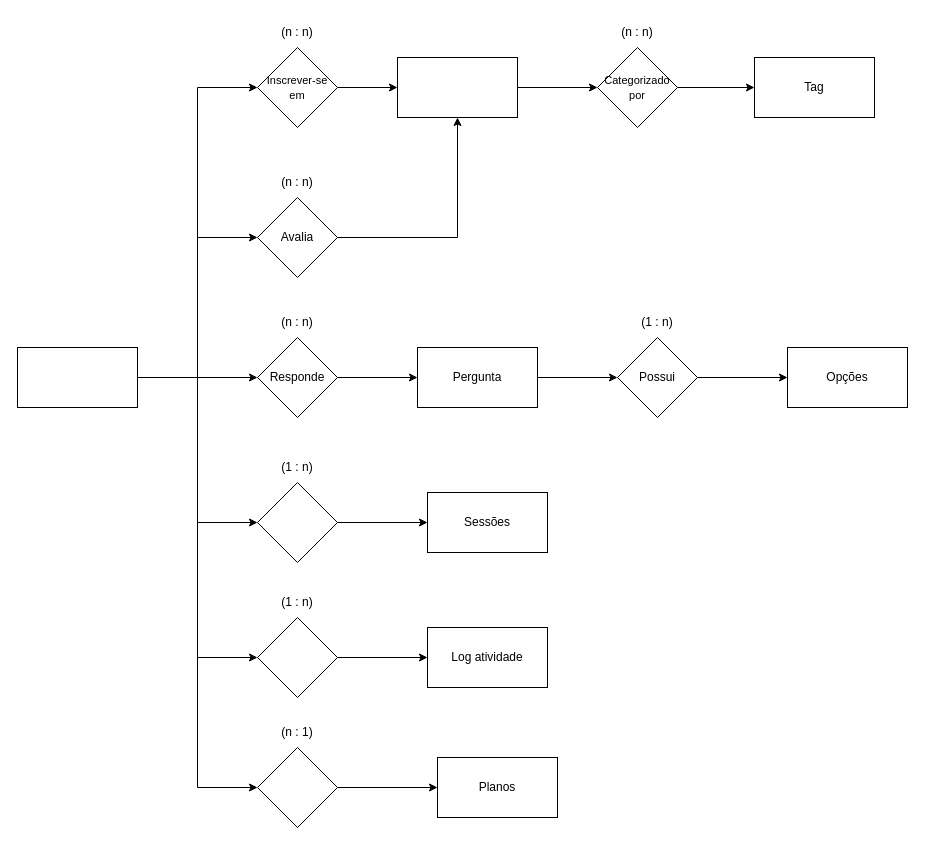
This 925x845 diagram has some shape labels left out. The box of each missing label's shape, as (x1, y1, x2, y2) in pixels:
Autentica: (256, 482, 338, 562)
Escolhe: (256, 746, 338, 828)
Evento: (396, 56, 518, 118)
Registra: (256, 616, 338, 698)
Usuário: (16, 346, 138, 408)
